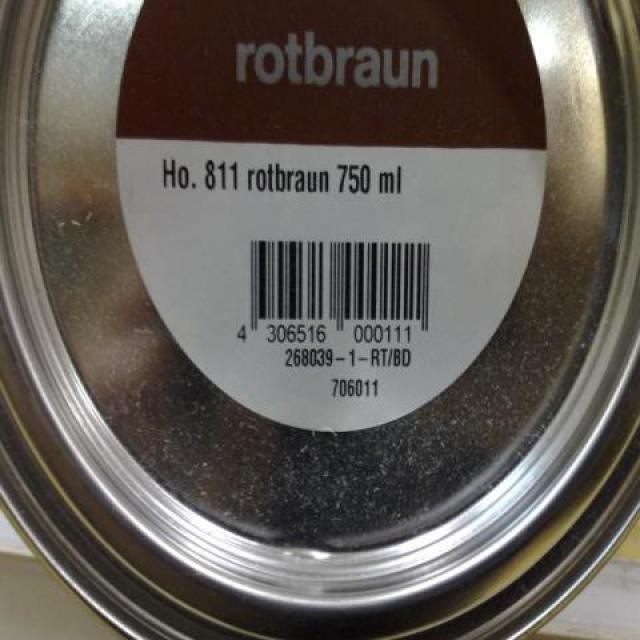Barcode: (228, 228, 447, 347)
